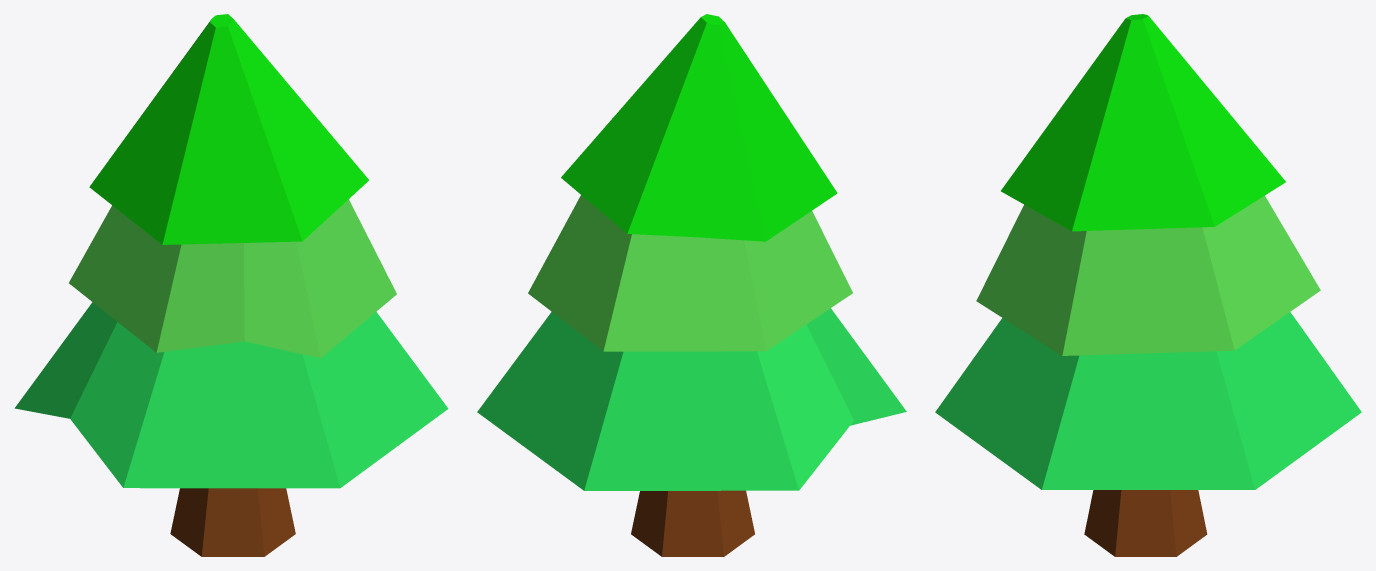
Rendered from PineTree.fbx.
The picture shows the model from 3 angles, left to right: view 1: azimuth 30°, elevation 25°; view 2: azimuth 150°, elevation 25°; view 3: azimuth 270°, elevation 25°; orthographic projection. The views are drawn at different scales.
Visible parts, largest first — view 1: Pine_Tree; view 2: Pine_Tree; view 3: Pine_Tree.
Boxes of the visible parts, x1,y1,x2,y2 form: Pine_Tree: (14,14,448,556); Pine_Tree: (477,14,906,556); Pine_Tree: (935,14,1361,556).
Bounding box in the file's own units: 47.86 × 73.5 × 55.51.
